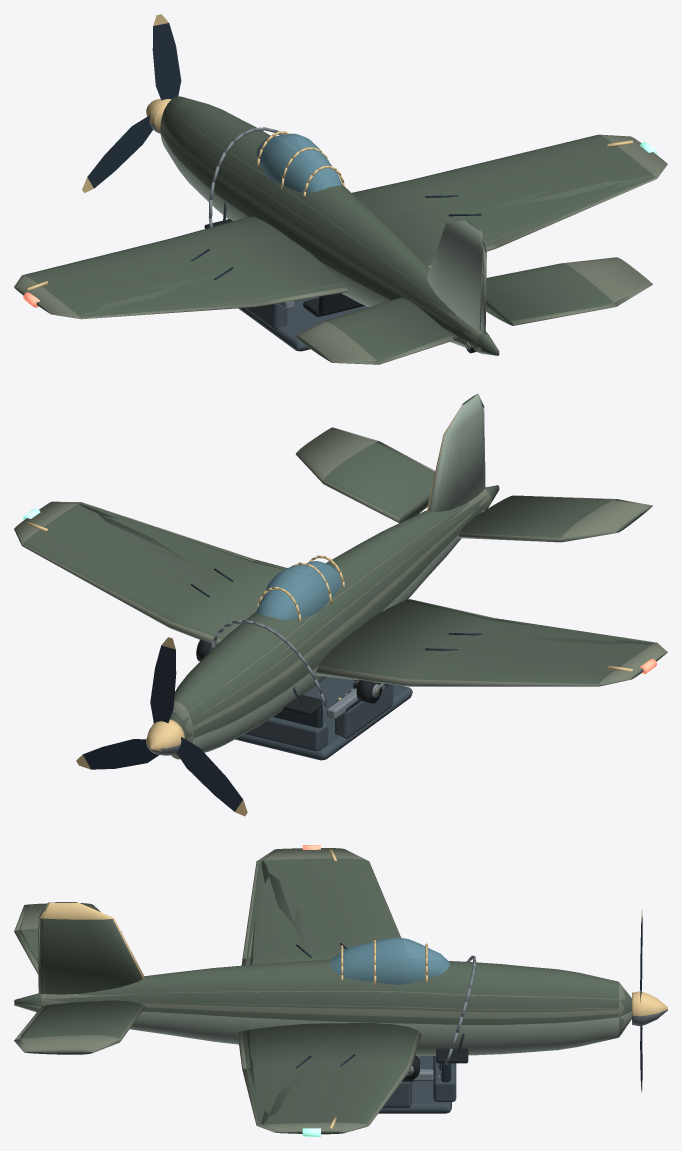
3 views of the same model, one above another, from view 1: azimuth 30°, elevation 25°; view 2: azimuth 150°, elevation 25°; view 3: azimuth 270°, elevation 25° (orthographic). The views are drawn at different scales.
Parts seen in each view (by area): view 1: Airframe shell mesh, Airframe shell.001 mesh, Airframe shell.002 mesh, Cockpit shell mesh, Prop_0 mesh, Canopy glass, Canopy glass.001, Canopy glass.002, Hinged Aileron.001, Hinged Aileron; view 2: Airframe shell mesh, Airframe shell.001 mesh, Cockpit shell mesh, Prop_0 mesh, Airframe shell.002 mesh, Canopy glass, Canopy glass.001, Spinner, Canopy glass.002; view 3: Airframe shell mesh, Airframe shell.001 mesh, Canopy glass, Cockpit shell mesh, Airframe shell.002 mesh, Canopy glass.001, Canopy glass.002, Spinner, Hinged Aileron.
Boxes of the visible parts, <box> form: Airframe shell mesh: <box>14,96,656,364</box>; Airframe shell.001 mesh: <box>14,97,665,364</box>; Airframe shell.002 mesh: <box>21,111,665,360</box>; Cockpit shell mesh: <box>204,127,367,351</box>; Prop_0 mesh: <box>82,14,181,193</box>; Canopy glass: <box>256,133,341,193</box>; Canopy glass.001: <box>256,134,341,192</box>; Canopy glass.002: <box>259,137,338,191</box>; Hinged Aileron.001: <box>493,162,667,247</box>; Hinged Aileron: <box>50,301,256,319</box>; Airframe shell mesh: <box>14,396,656,759</box>; Airframe shell.001 mesh: <box>33,394,667,759</box>; Cockpit shell mesh: <box>209,620,412,760</box>; Prop_0 mesh: <box>76,637,247,816</box>; Airframe shell.002 mesh: <box>49,395,665,739</box>; Canopy glass: <box>256,561,341,620</box>; Canopy glass.001: <box>256,561,341,620</box>; Spinner: <box>146,719,184,755</box>; Canopy glass.002: <box>258,561,337,618</box>; Airframe shell mesh: <box>14,845,626,1136</box>; Airframe shell.001 mesh: <box>14,848,625,1133</box>; Canopy glass: <box>331,937,448,984</box>; Cockpit shell mesh: <box>378,955,476,1113</box>; Airframe shell.002 mesh: <box>14,848,631,1133</box>; Canopy glass.001: <box>331,937,448,984</box>; Canopy glass.002: <box>329,937,449,970</box>; Spinner: <box>632,991,667,1026</box>; Hinged Aileron: <box>242,849,277,959</box>.
Bounding box in the file's own units: 10.05 × 3.06 × 9.68.
